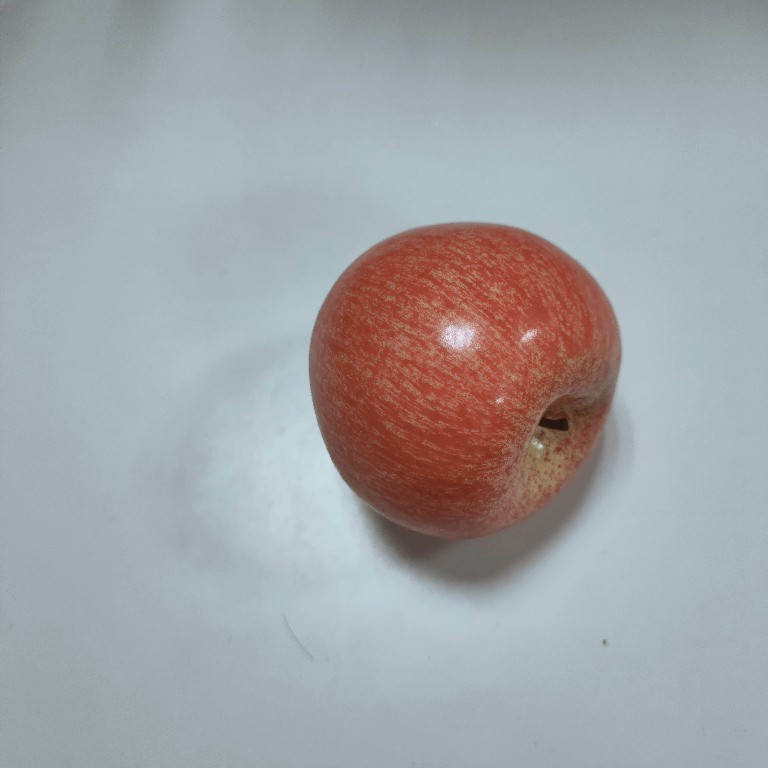fruit_apple: (303, 216, 630, 547)
